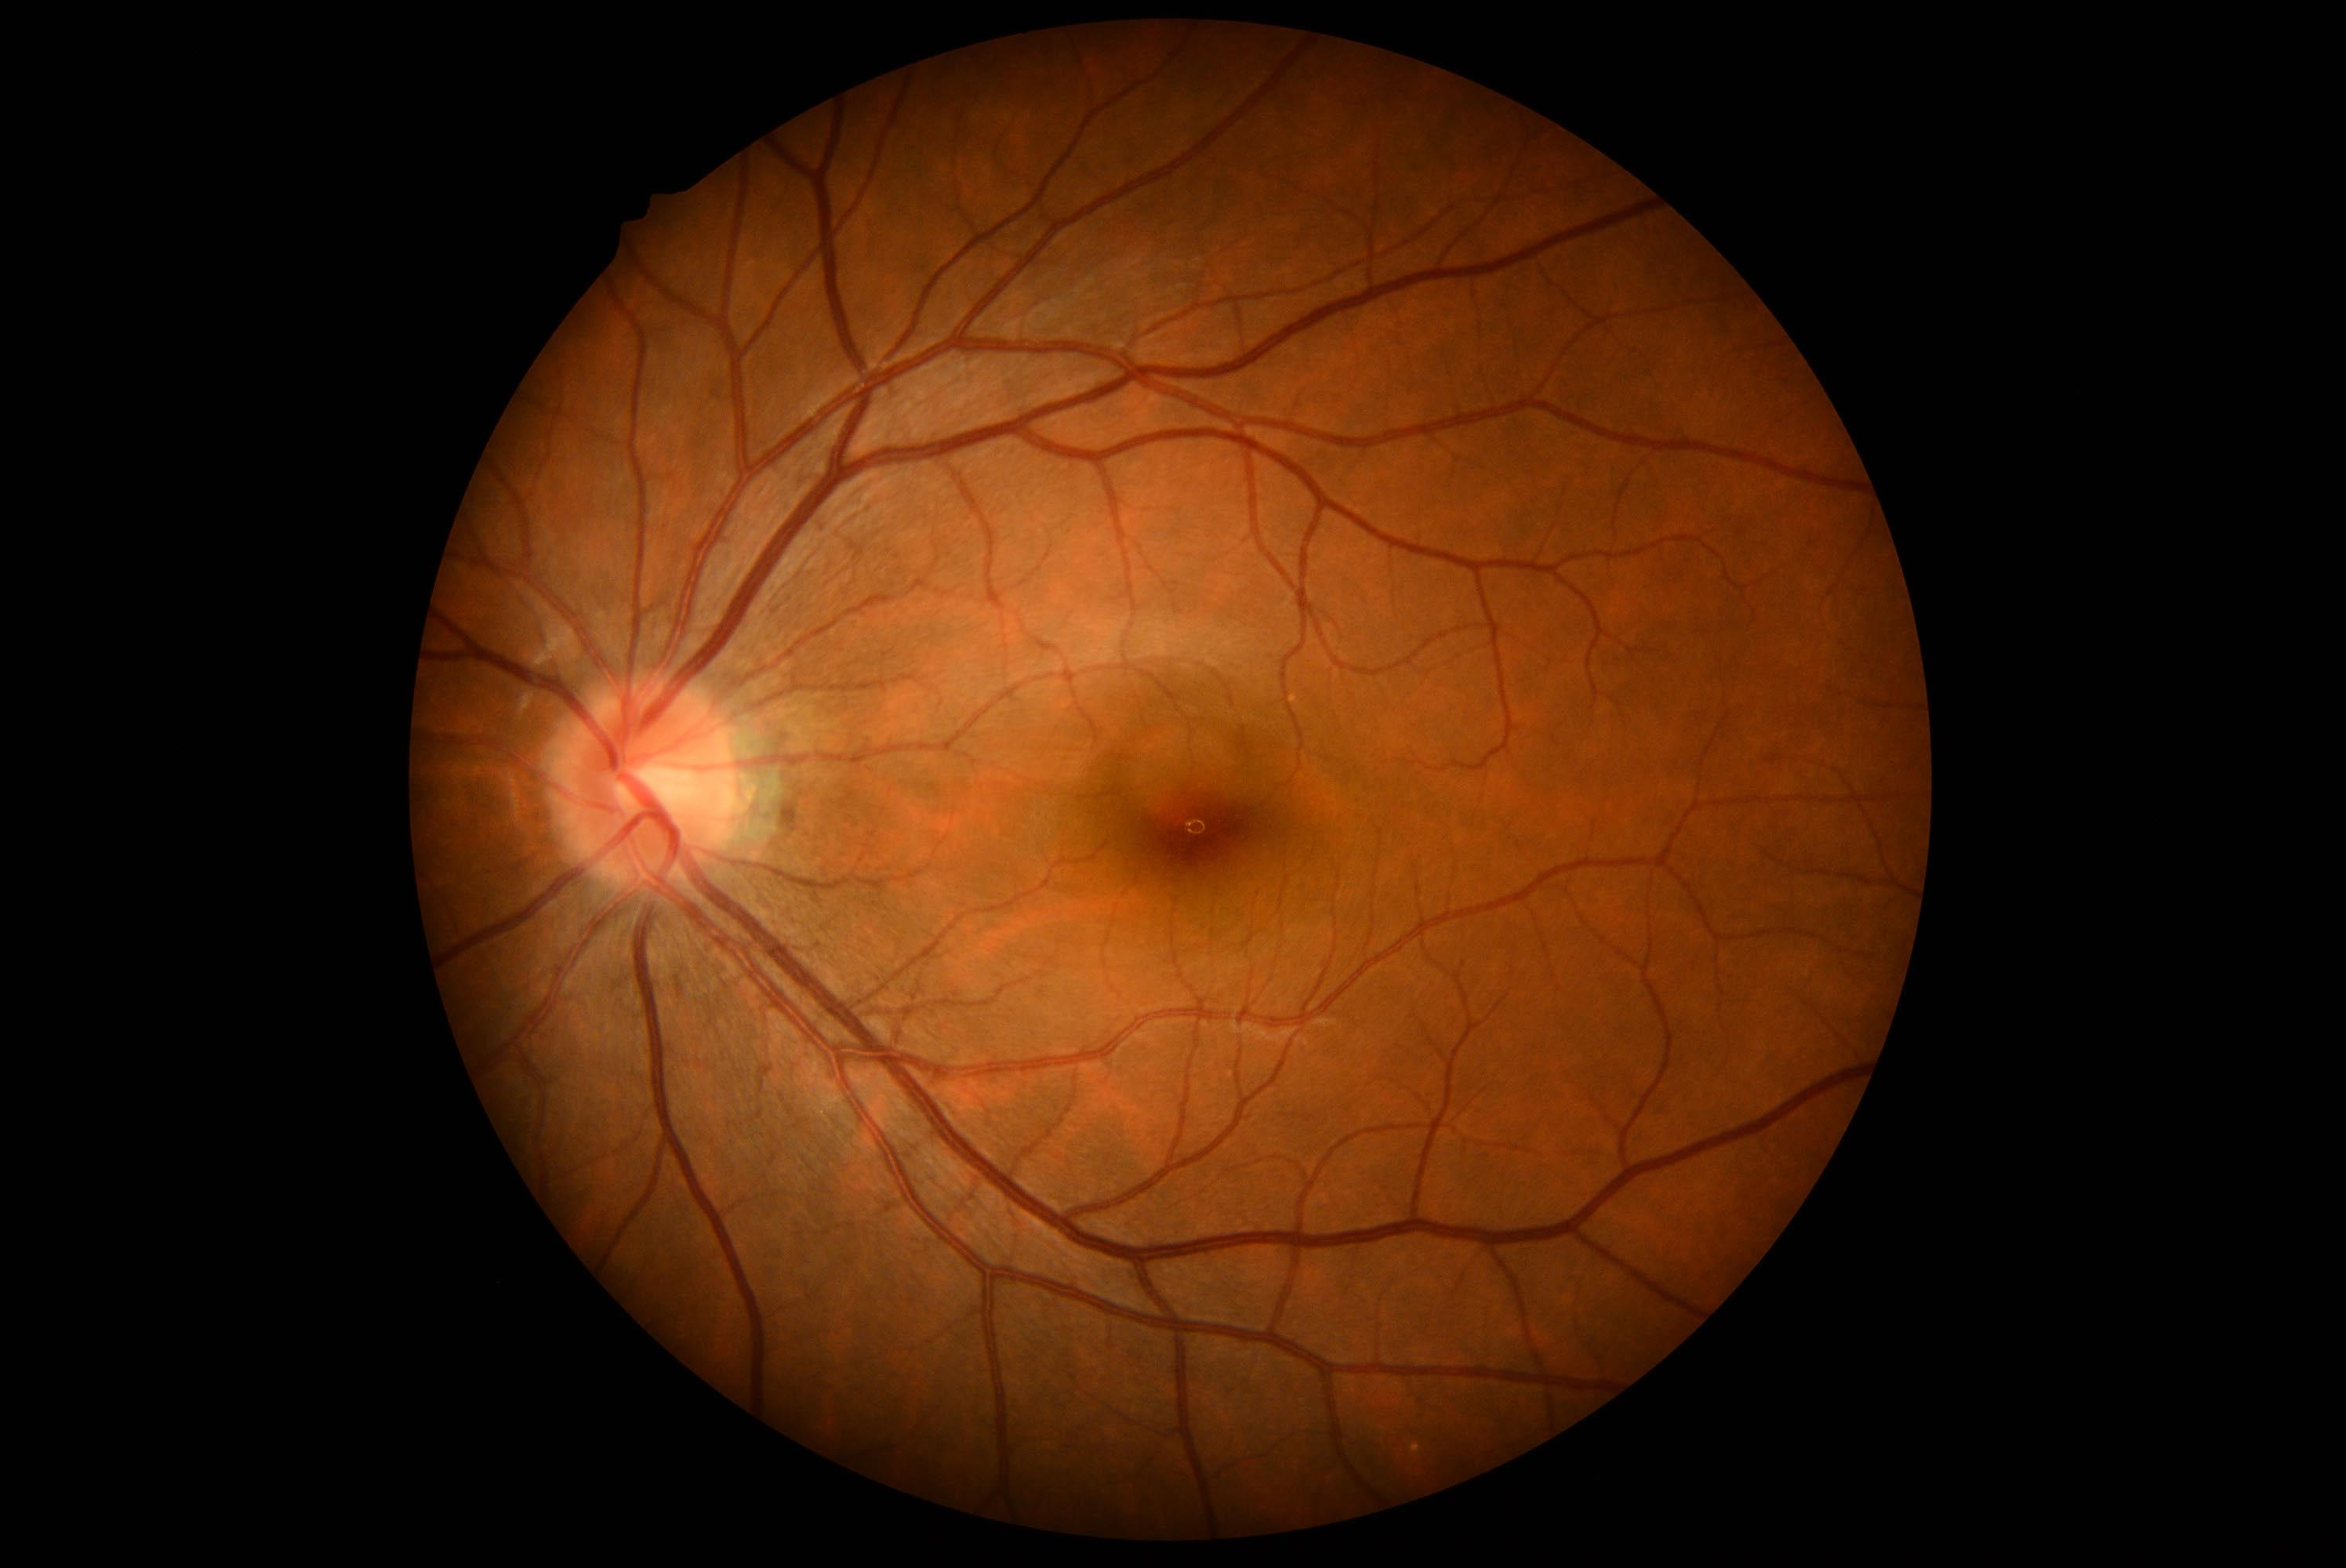Fovea: (1111, 742, 1279, 906)
